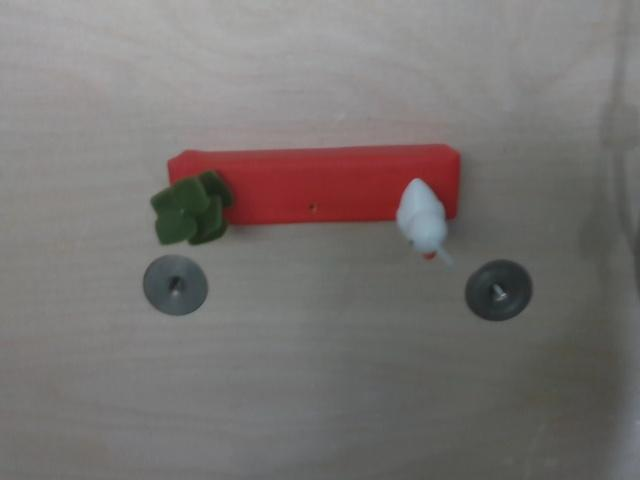leaf: (142, 159, 243, 250)
w_duck: (389, 167, 455, 267)
